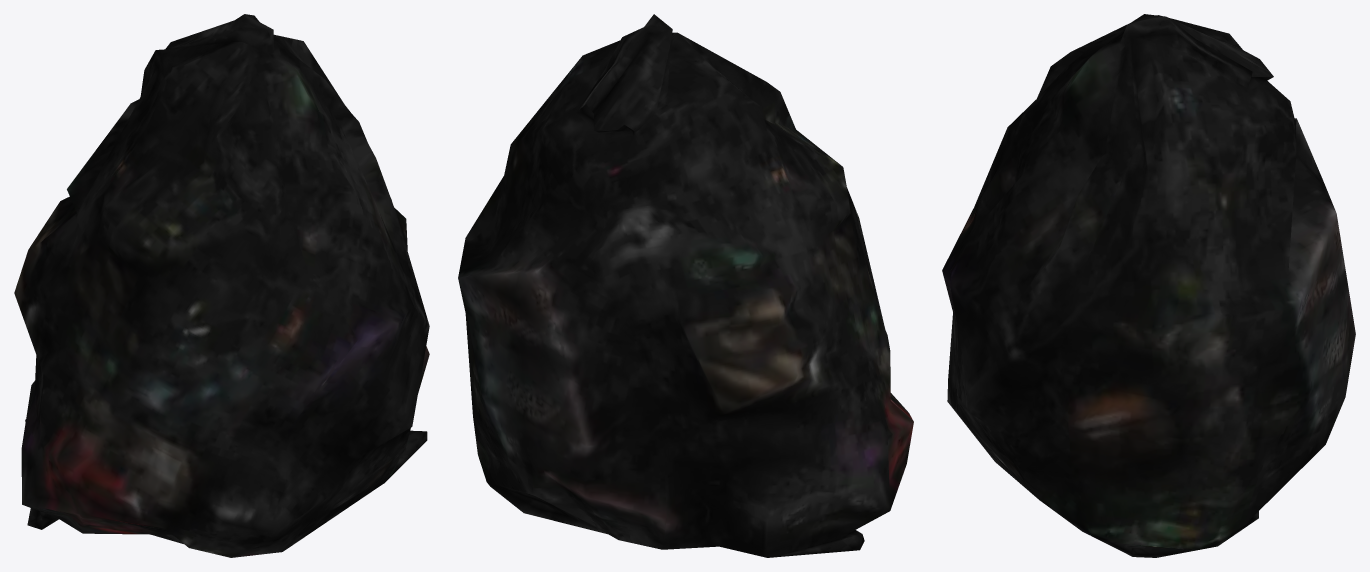
Rendered from bolsa_basura.glb.
The picture shows the model from 3 angles, left to right: view 1: azimuth 30°, elevation 25°; view 2: azimuth 150°, elevation 25°; view 3: azimuth 270°, elevation 25°; orthographic projection.
Visible parts, largest first — view 1: bolsa_basura; view 2: bolsa_basura; view 3: bolsa_basura.
Boxes of the visible parts, x1,y1,x2,y2 form: bolsa_basura: (14, 14, 429, 557); bolsa_basura: (458, 14, 913, 557); bolsa_basura: (942, 14, 1355, 557).
Bounding box in the file's own units: 0.5154 × 0.5731 × 0.459.
1 material, 1 textured.
